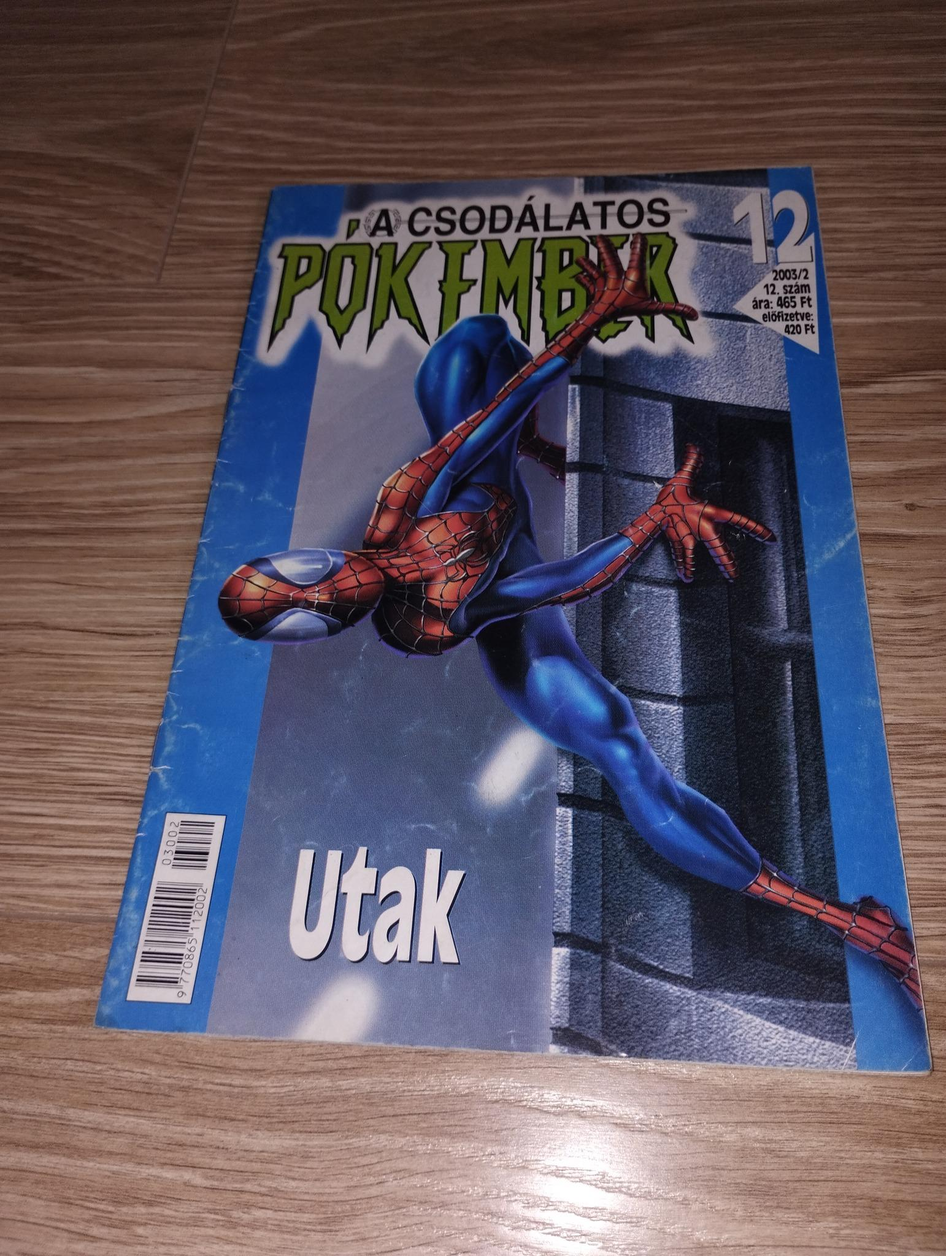comic: (97, 146, 946, 1070)
